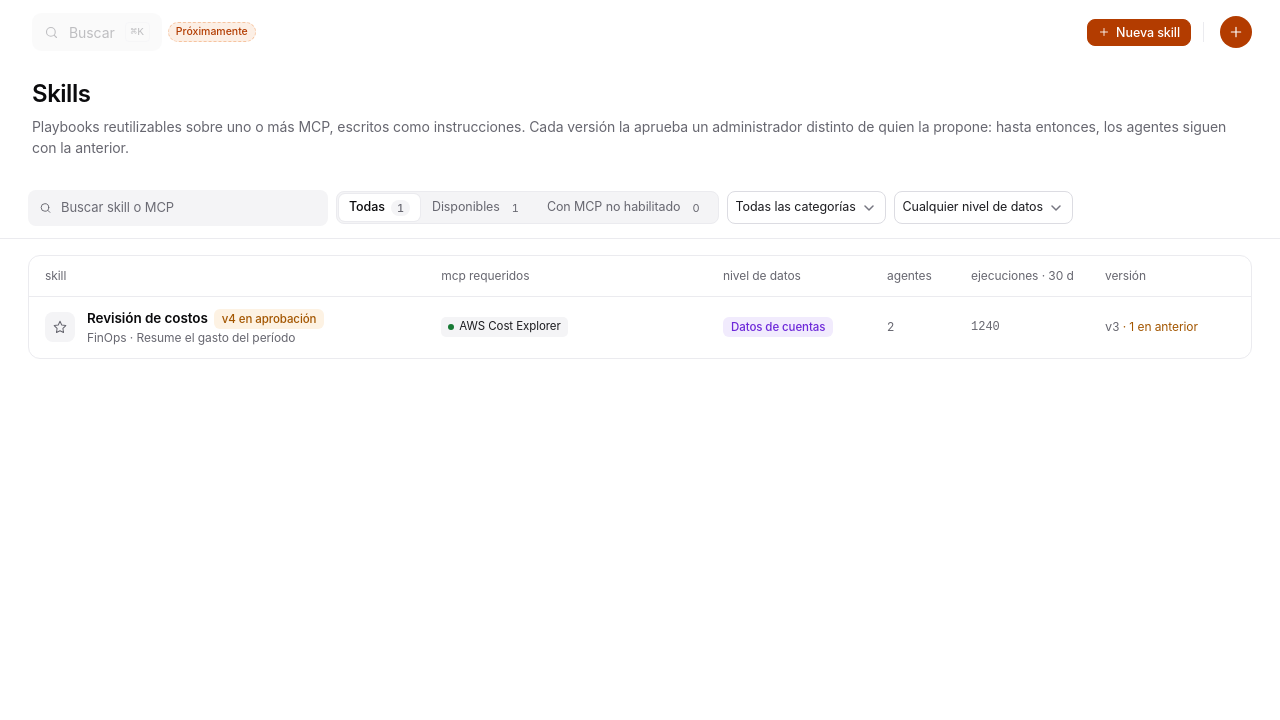
Test: SkillsPage › approves a new version from the detail, with its diff
Click the button "Revisión de costos": x=147, y=318 [29,296,1251,358]
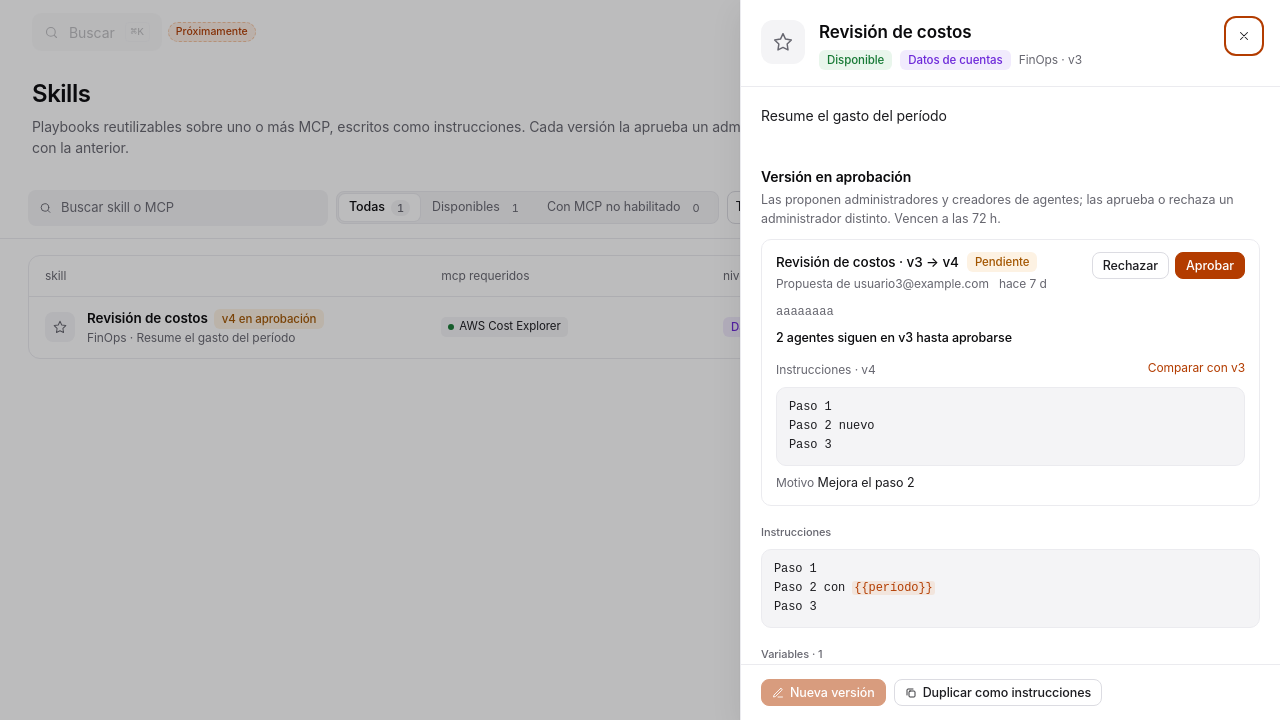
Expected: the element that starts with "Revisión de costos · v3 → v4" is shown, [776,254,959,270]
Expected: the element that starts with "Revisión de costos · v3 → v4" shows "2 agentes siguen en v3 hasta aprobarse", [776,330,1012,345]
Click the button "Comparar con v3": x=1196, y=368 [1148,359,1245,377]
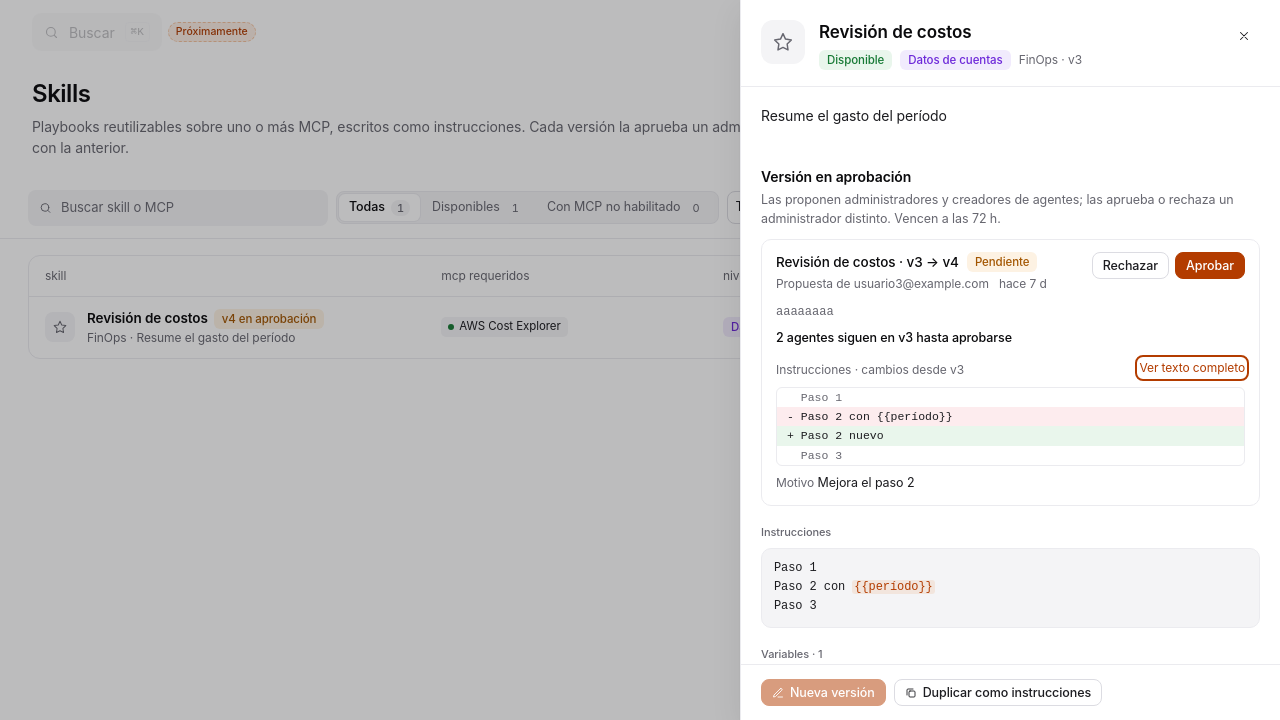
Expected: the button "Nueva versión" is disabled, [761,679,886,706]
Expected: the text with class "is-add" reads "+ Paso 2 nuevo", [777,426,1244,446]
Expected: the text with class "is-rem" reads "- Paso 2 con {{período}}", [777,407,1244,426]
Click the button "Aprobar": x=1210, y=265 [1175,252,1245,279]
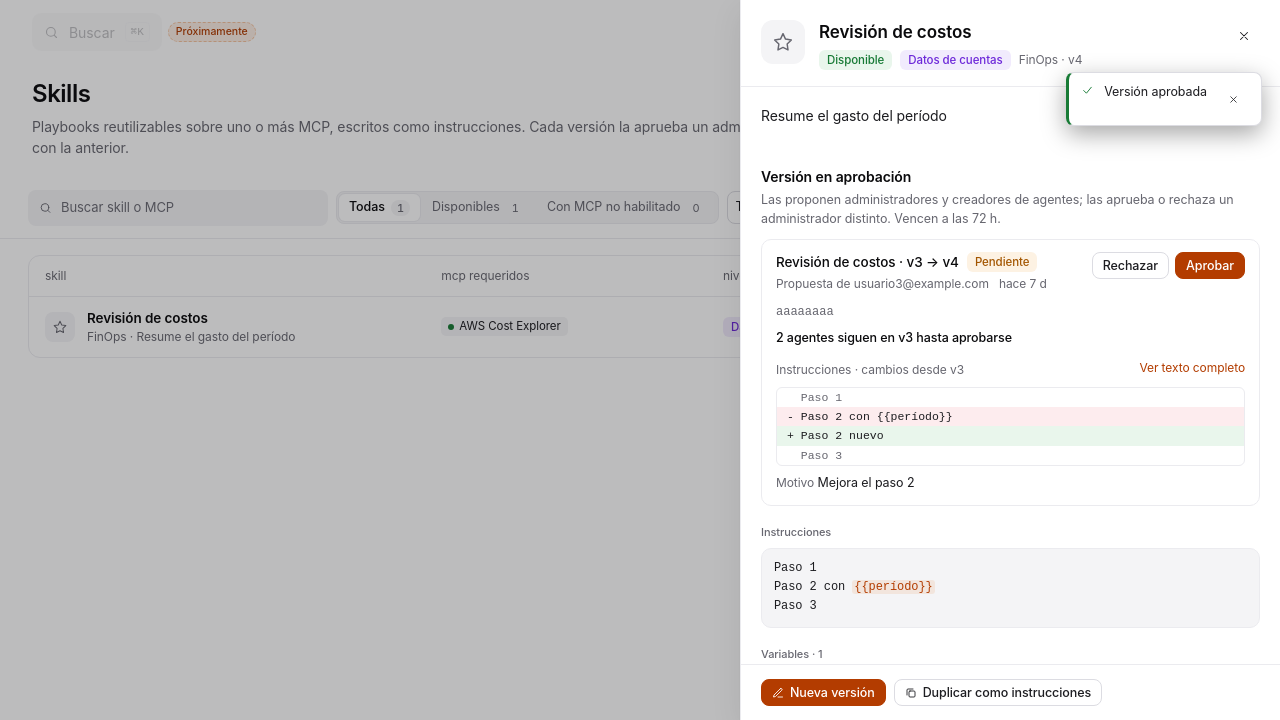
Expected: the text "Versión aprobada" is shown, [1104,83,1207,102]
